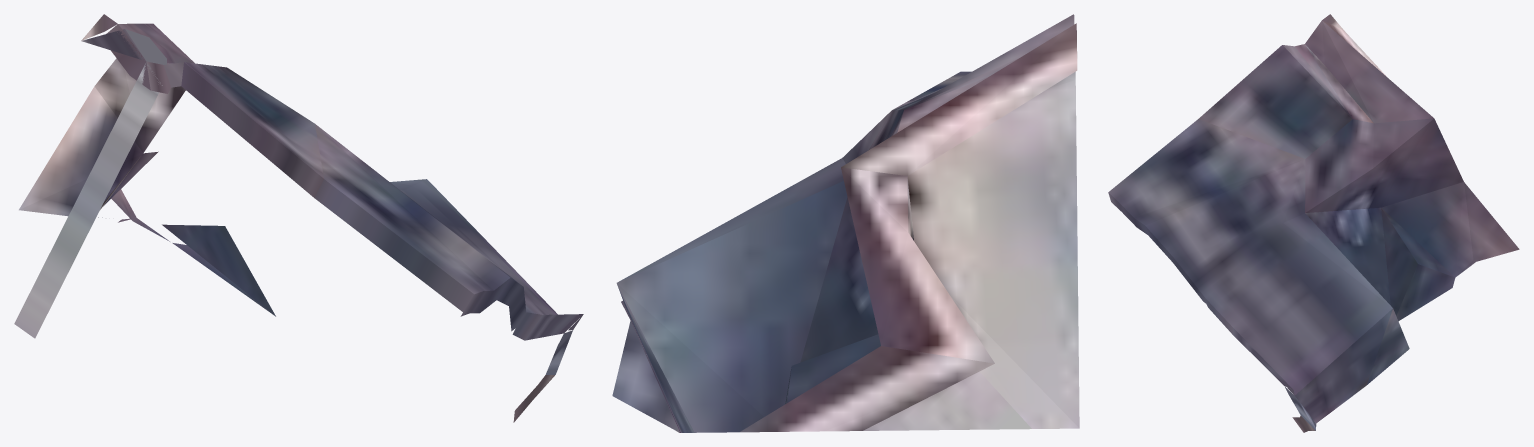
3 views of the same model, side by side, from view 1: azimuth 30°, elevation 25°; view 2: azimuth 150°, elevation 25°; view 3: azimuth 270°, elevation 25° (orthographic). The views are drawn at different scales.
Bounding box in the file's own units: 10.12 × 9.51 × 11.74.
Materials: 1 (1 with a texture image).
